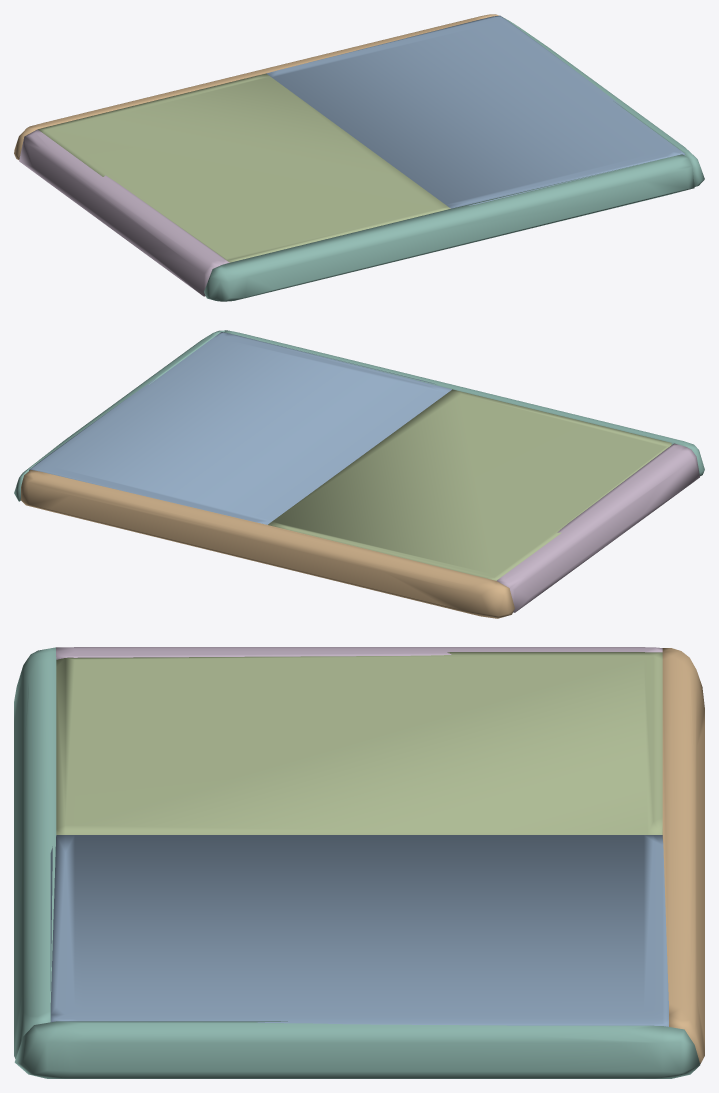
3 views of the same model, one above another, from view 1: azimuth 30°, elevation 25°; view 2: azimuth 150°, elevation 25°; view 3: azimuth 270°, elevation 25° (orthographic). The views are drawn at different scales.
Bounding box in the file's own units: 1.66 × 0.0949 × 1.22.
